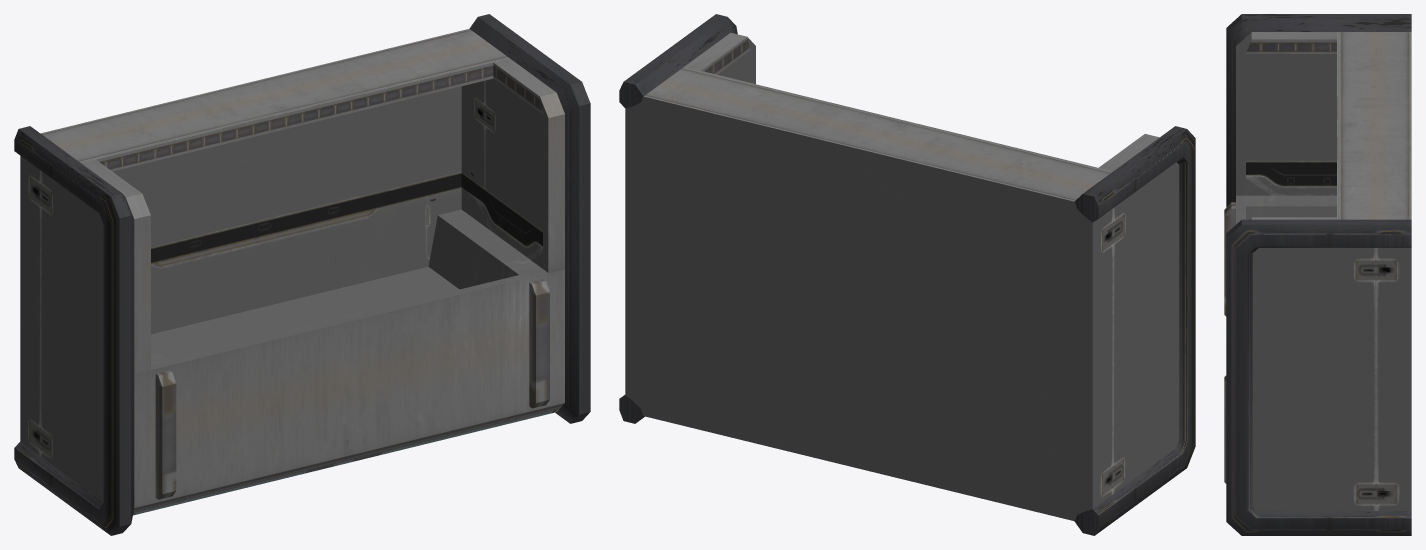
Rendered from Indoor_UV.fbx.
3 renders of one model, left to right at view 1: azimuth 30°, elevation 25°; view 2: azimuth 150°, elevation 25°; view 3: azimuth 270°, elevation 25°, orthographic. The views are drawn at different scales.
Visible parts, largest first — view 1: Indoor_Half; view 2: Indoor_Half; view 3: Indoor_Half.
Boxes of the visible parts, <box> form: Indoor_Half: <box>14,14,590,535</box>; Indoor_Half: <box>619,14,1195,535</box>; Indoor_Half: <box>1224,14,1411,535</box>.
Size of the model in its own units: 40.8 by 27.6 by 15.06.
